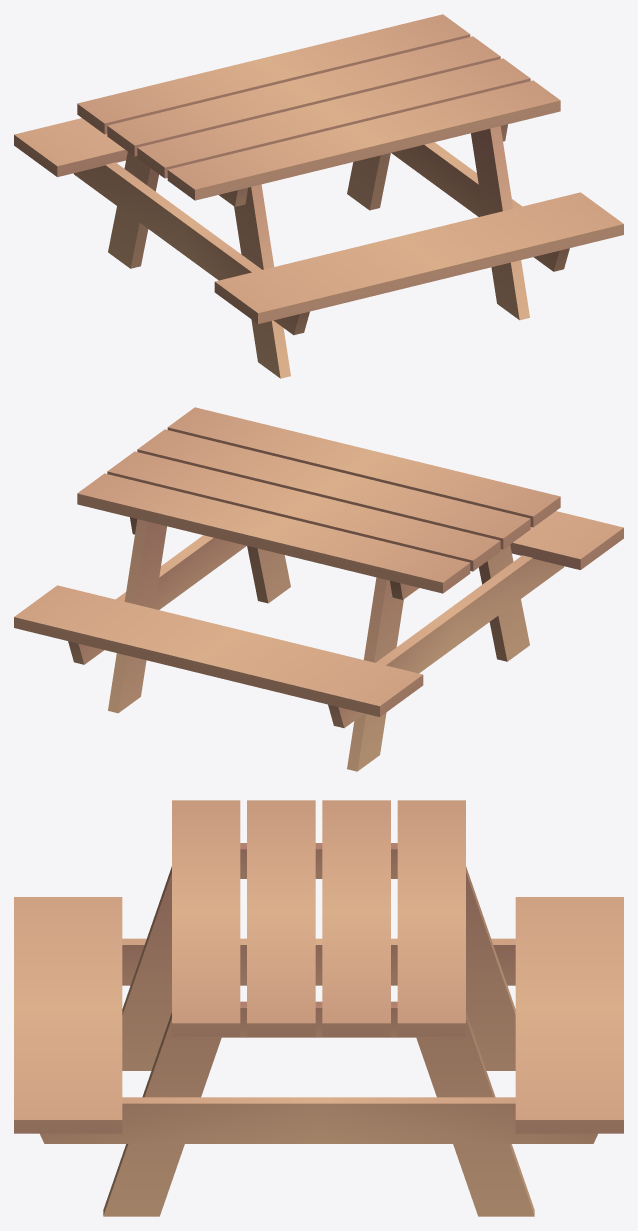
The model's file is Table_Picnic_01.fbx.
3 renders of one model, top to bottom at view 1: azimuth 30°, elevation 25°; view 2: azimuth 150°, elevation 25°; view 3: azimuth 270°, elevation 25°, orthographic. The views are drawn at different scales.
Visible parts, largest first — view 1: Table_Picnic_01; view 2: Table_Picnic_01; view 3: Table_Picnic_01.
Boxes of the visible parts, x1,y1,x2,y2 form: Table_Picnic_01: [14, 14, 623, 378]; Table_Picnic_01: [14, 407, 623, 771]; Table_Picnic_01: [14, 800, 623, 1216].
Size of the model in its own units: 200 by 95.63 by 231.
